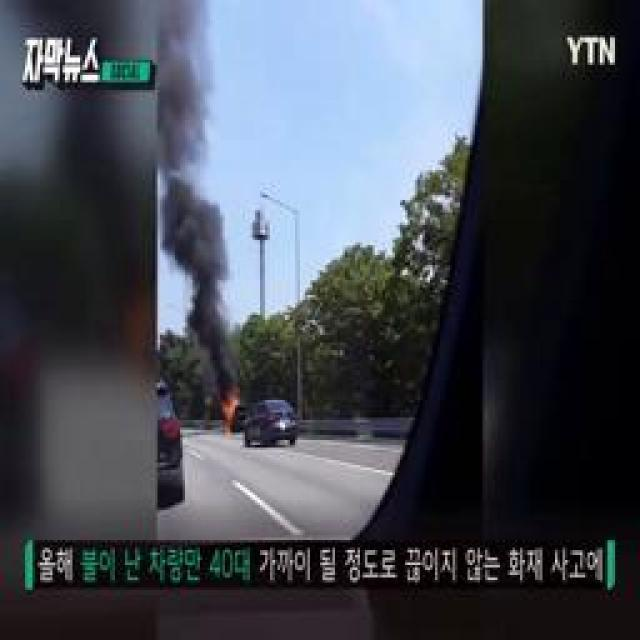Fire: (219, 396, 241, 431)
